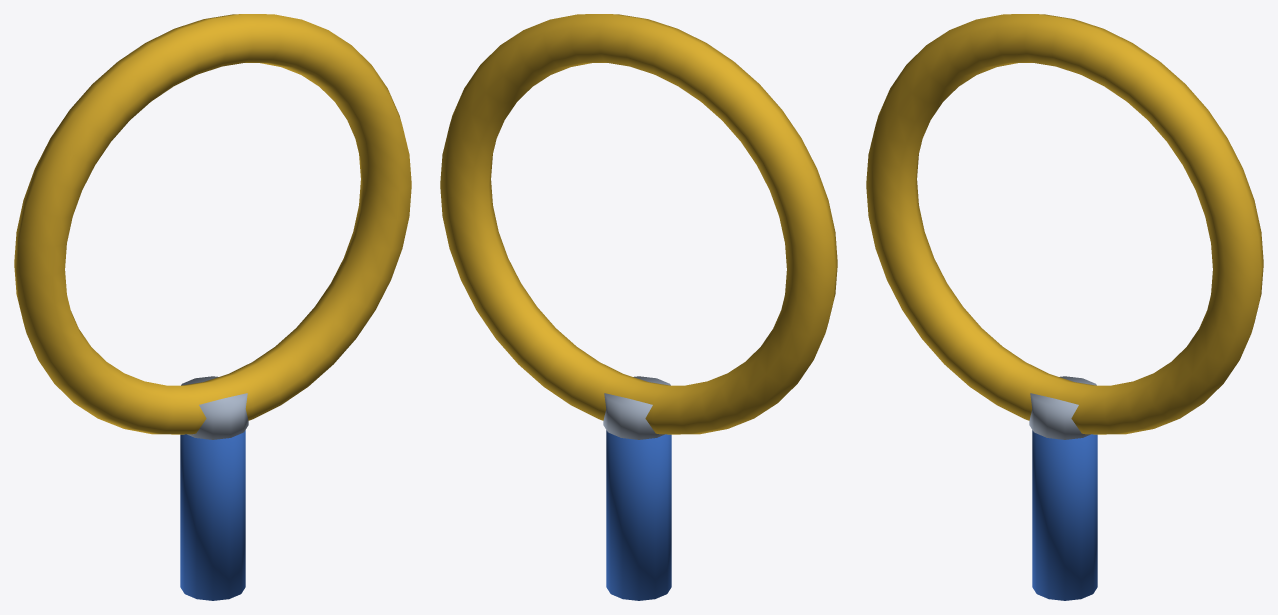
The model's file is magnifier.glb.
3 views of the same model, side by side, from view 1: azimuth 30°, elevation 25°; view 2: azimuth 150°, elevation 25°; view 3: azimuth 330°, elevation 25° (orthographic).
Visible parts, largest first — view 1: magnifier; view 2: magnifier; view 3: magnifier.
Part boxes in pixels (bbox=[...]): magnifier: bbox=[14, 14, 411, 600]; magnifier: bbox=[440, 14, 837, 600]; magnifier: bbox=[866, 14, 1263, 600].
Size of the model in its own units: 0.43 by 0.595 by 0.068.
